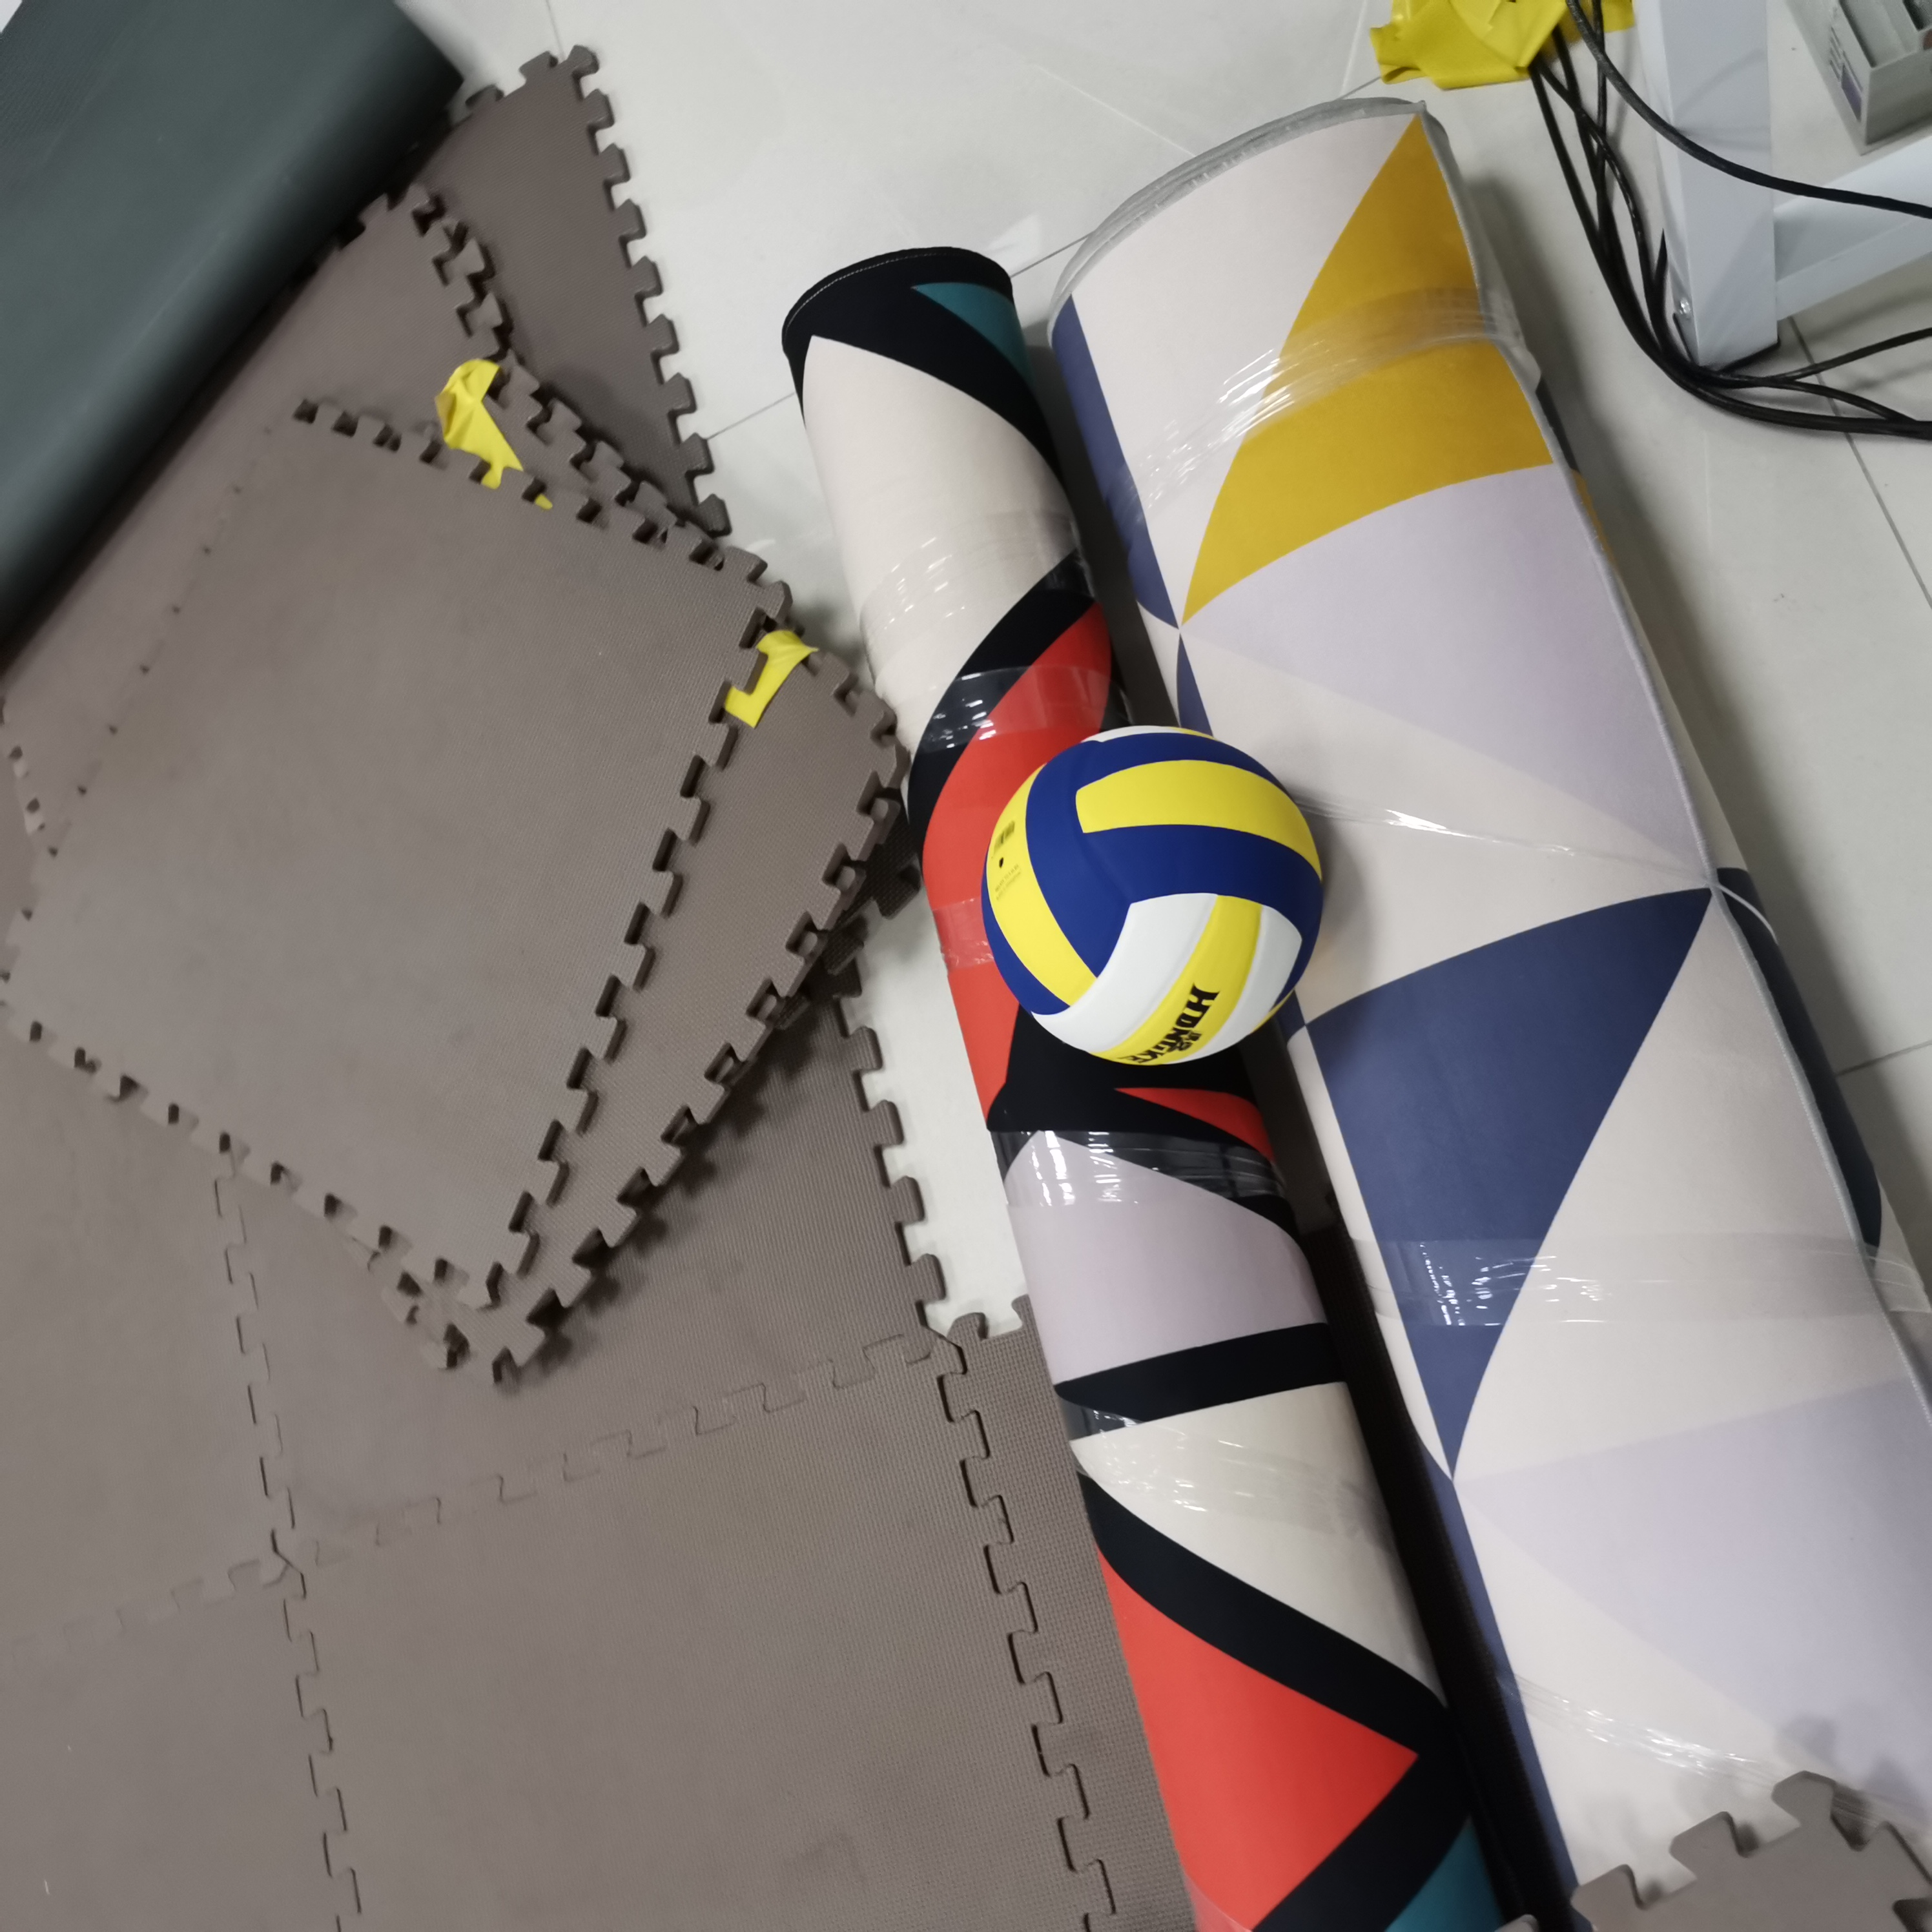volleyball: (982, 722, 1332, 1074)
